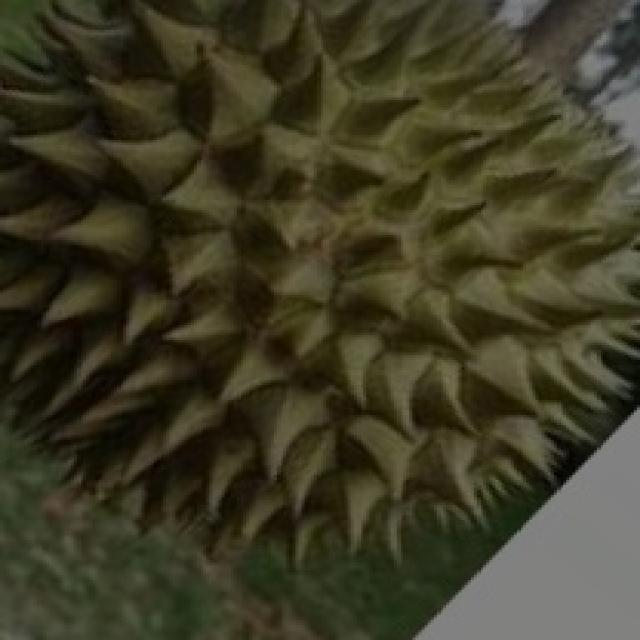fruit: (0, 198, 357, 632)
